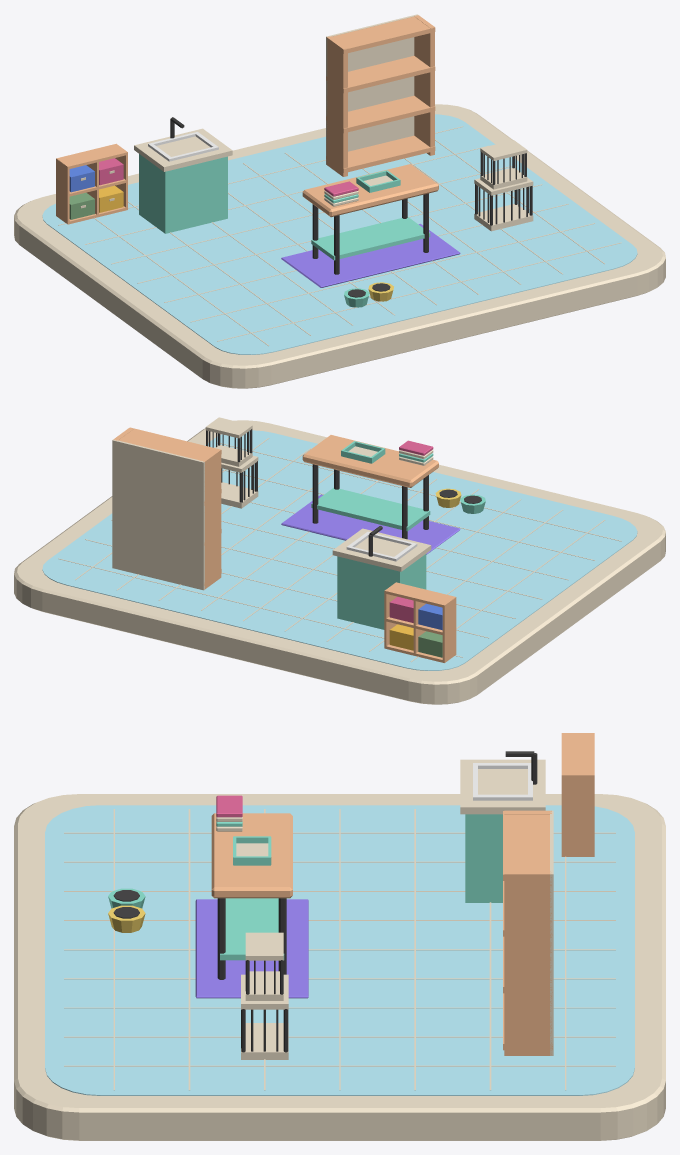
The model's file is room.fbx.
3 views of the same model, one above another, from view 1: azimuth 30°, elevation 25°; view 2: azimuth 150°, elevation 25°; view 3: azimuth 270°, elevation 25° (orthographic). The views are drawn at different scales.
Visible parts, largest first — view 1: COM-02 Floor Surface, COM-01 Rounded Base Direct, Cabinet, Back, Rug, Worktop, Side, Lower shelf, Counter, Side.001, Shelf.003, Shelf.001 (+12 smaller); view 2: COM-02 Floor Surface, COM-01 Rounded Base Direct, Back, Cabinet, Worktop, Rug, Lower shelf, Side, Counter, Shelf.003, Cubbies shelf.002, Cubbies divider (+9 smaller); view 3: COM-02 Floor Surface, COM-01 Rounded Base Direct, Side.001, Rug, Worktop, Counter, Cabinet, Shelf.003, Cubbies divider.002, Lower shelf, Cubbies shelf.002, Floor (+15 smaller).
Boxes of the visible parts, x1,y1,x2,y2 form: COM-02 Floor Surface: [42, 114, 637, 354]; COM-01 Rounded Base Direct: [14, 104, 665, 388]; Cabinet: [139, 154, 227, 233]; Back: [326, 14, 418, 164]; Rug: [281, 223, 460, 287]; Worktop: [302, 164, 438, 217]; Side: [326, 36, 347, 176]; Lower shelf: [311, 217, 430, 260]; Counter: [134, 128, 232, 171]; Side.001: [414, 15, 434, 155]; Shelf.003: [327, 16, 435, 53]; Shelf.001: [326, 95, 435, 133]; COM-02 Floor Surface: [42, 430, 637, 670]; COM-01 Rounded Base Direct: [14, 420, 665, 704]; Back: [112, 439, 204, 590]; Cabinet: [337, 554, 426, 629]; Worktop: [302, 435, 438, 487]; Rug: [281, 494, 460, 554]; Lower shelf: [311, 487, 430, 531]; Side: [200, 449, 221, 589]; Counter: [332, 528, 431, 571]; Shelf.003: [118, 427, 221, 463]; Cubbies shelf.002: [385, 582, 455, 607]; Cubbies divider: [442, 597, 456, 662]; COM-02 Floor Surface: [45, 805, 634, 1095]; COM-01 Rounded Base Direct: [14, 794, 665, 1140]; Side.001: [504, 871, 551, 1055]; Rug: [195, 899, 308, 998]; Worktop: [211, 813, 292, 898]; Counter: [460, 759, 545, 814]; Cabinet: [465, 814, 502, 902]; Shelf.003: [503, 811, 549, 880]; Cubbies divider.002: [561, 775, 594, 856]; Lower shelf: [220, 898, 284, 960]; Cubbies shelf.002: [561, 733, 594, 774]; Floor: [241, 1023, 288, 1059].
Size of the model in its own units: 600 by 190 by 520.
